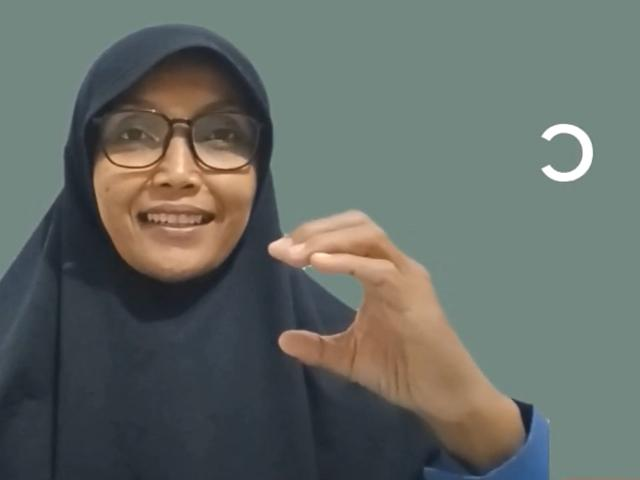C: (268, 207, 458, 395)
